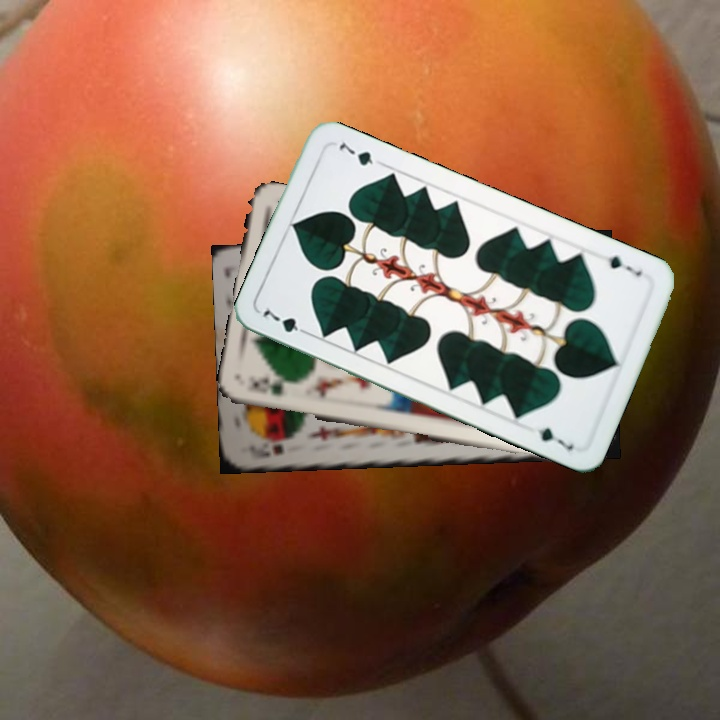G7: (258, 305, 314, 339), (597, 250, 644, 279)
GK: (248, 377, 287, 399)
SK: (244, 440, 285, 460)
